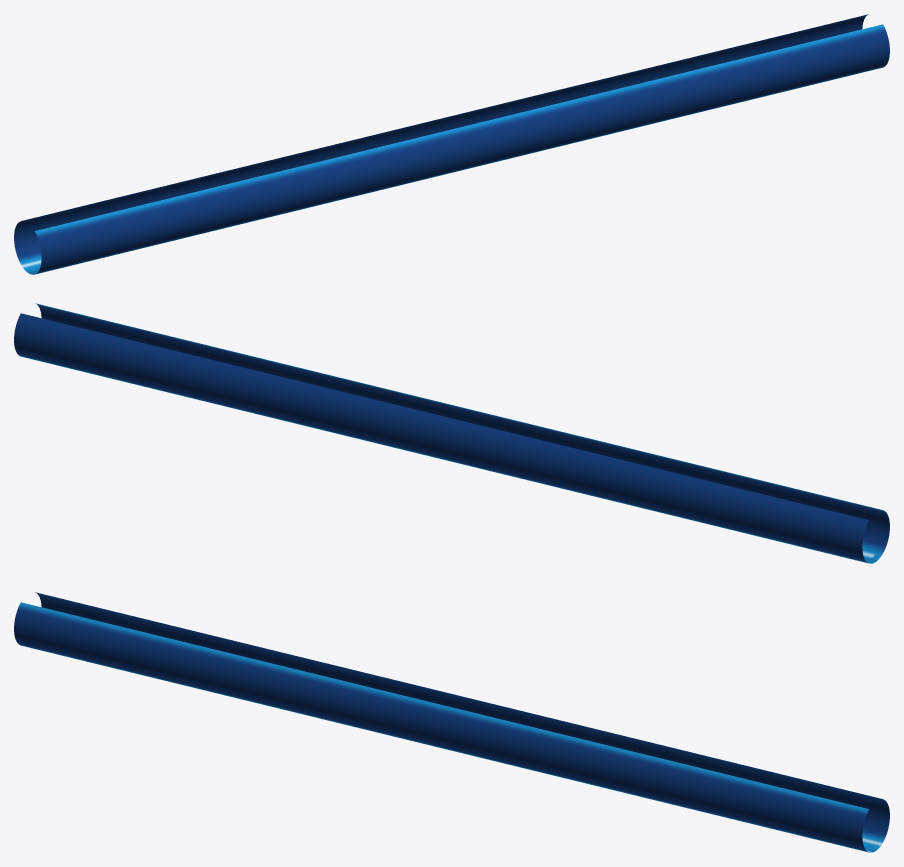
The picture shows the model from 3 angles, top to bottom: view 1: azimuth 30°, elevation 25°; view 2: azimuth 150°, elevation 25°; view 3: azimuth 330°, elevation 25°; orthographic projection.
Parts seen in each view (by area): view 1: 管道; view 2: 管道; view 3: 管道.
Part boxes in pixels (left/top/right/bottom): 管道: left=14, top=14, right=889, bottom=274; 管道: left=14, top=303, right=889, bottom=563; 管道: left=14, top=592, right=889, bottom=852.
Size of the model in its own units: 255 by 13.4 by 14.36.
1 material, 1 textured.
